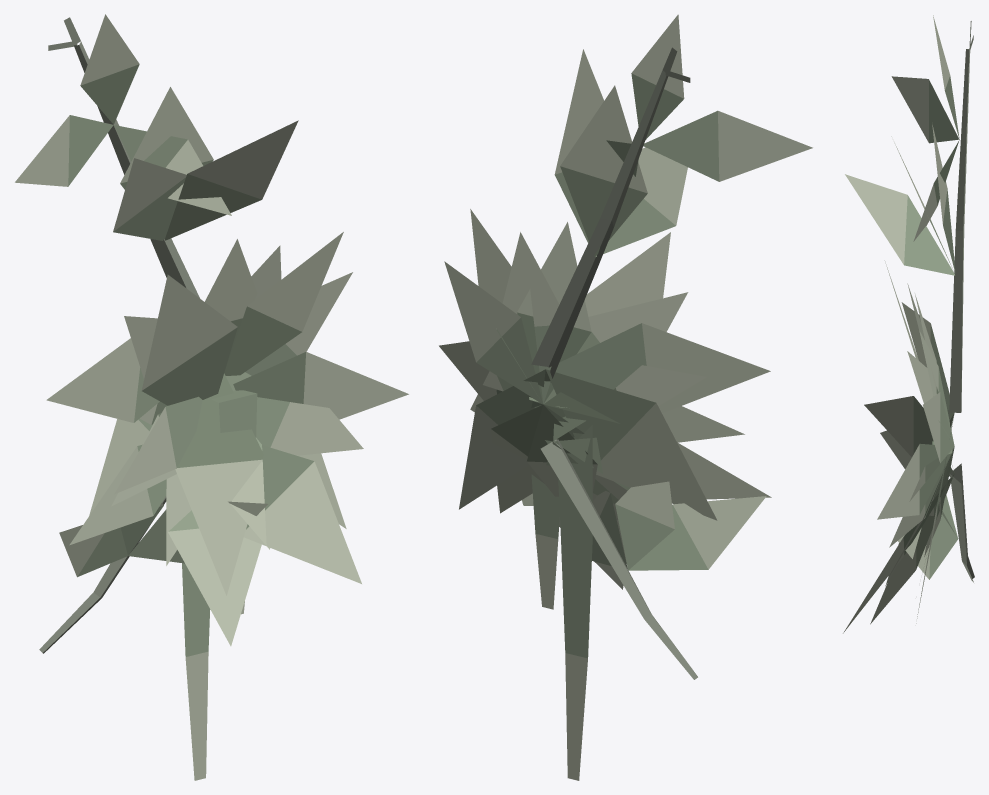
File: plant_t1_s1.fbx
3 renders of one model, left to right at view 1: azimuth 30°, elevation 25°; view 2: azimuth 150°, elevation 25°; view 3: azimuth 270°, elevation 25°, orthographic. The views are drawn at different scales.
Visible parts, largest first — view 1: plant_t1_s1; view 2: plant_t1_s1; view 3: plant_t1_s1.
Boxes of the visible parts, x1,y1,x2,y2 form: plant_t1_s1: (15,14,408,780); plant_t1_s1: (439,14,812,780); plant_t1_s1: (843,15,974,633).
Size of the model in its own units: 8.92 by 17.48 by 2.93.
